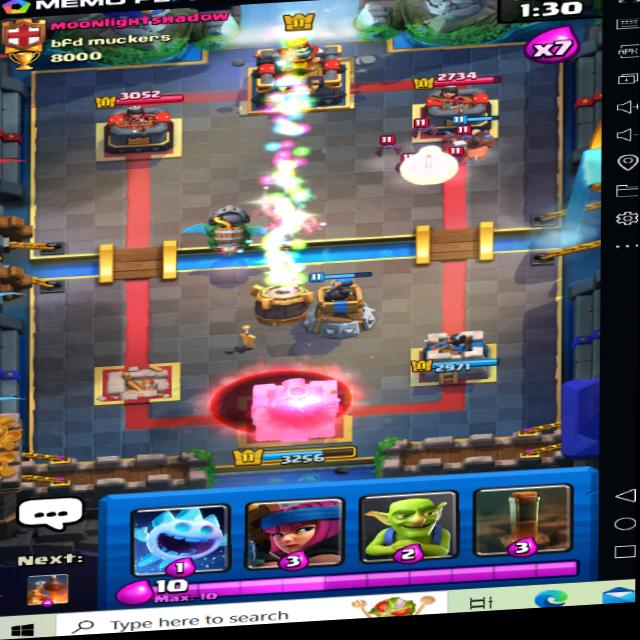bats: (374, 132, 402, 158), (442, 122, 478, 142), (409, 115, 441, 136)
rocket: (240, 276, 328, 333)
void: (207, 356, 360, 437)
